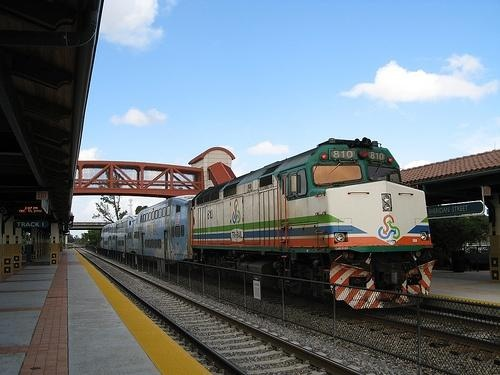train: (100, 138, 431, 312)
